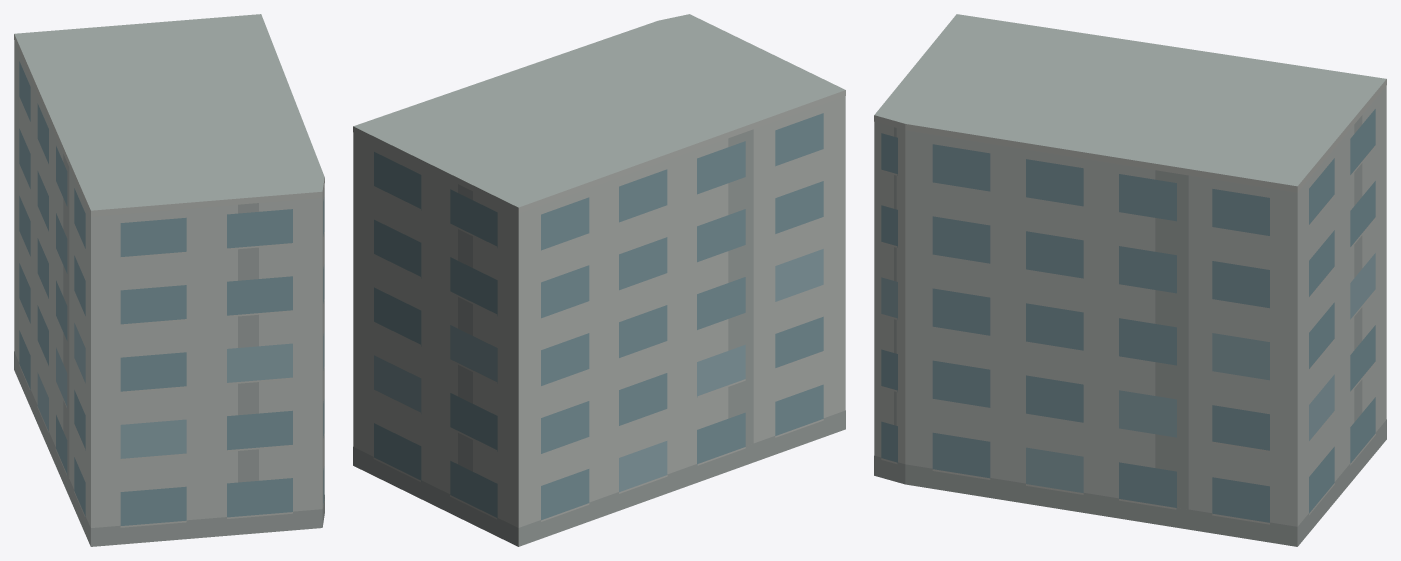
Rendered from survey-upis-32971998.glb.
3 renders of one model, left to right at view 1: azimuth 30°, elevation 25°; view 2: azimuth 150°, elevation 25°; view 3: azimuth 270°, elevation 25°, orthographic. The views are drawn at different scales.
Parts seen in each view (by area): view 1: survey-upis-32971998.tmp; view 2: survey-upis-32971998.tmp; view 3: survey-upis-32971998.tmp.
Part boxes in pixels (box(x1,y1,x2,y2)): survey-upis-32971998.tmp: box(14, 14, 324, 546); survey-upis-32971998.tmp: box(353, 14, 845, 546); survey-upis-32971998.tmp: box(874, 14, 1386, 546).
Size of the model in its own units: 13.85 by 13.5 by 17.4.
